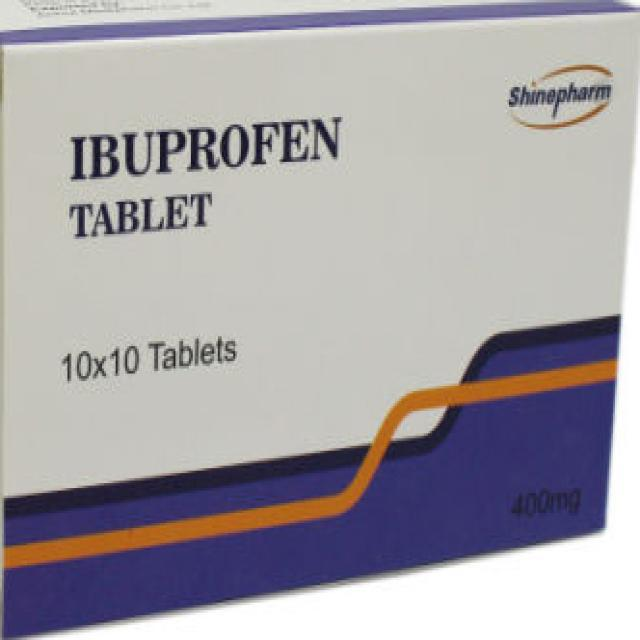drug-name: (61, 107, 350, 189)
